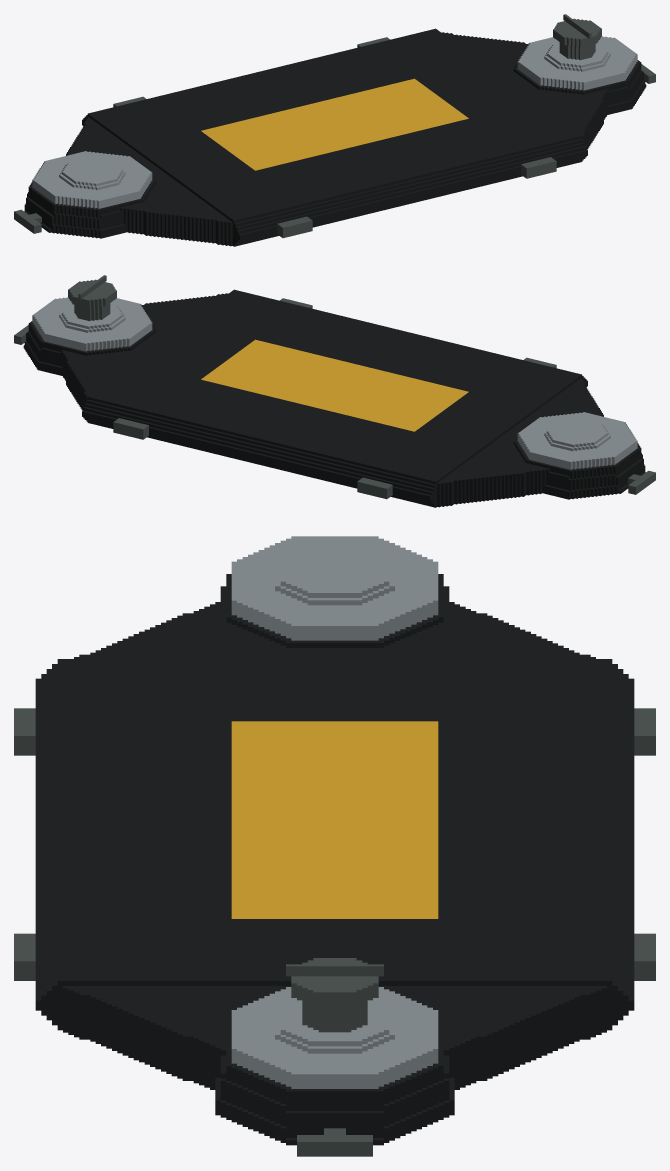
Rendered from collapsible_drum_fuel.glb.
3 renders of one model, top to bottom at view 1: azimuth 30°, elevation 25°; view 2: azimuth 150°, elevation 25°; view 3: azimuth 270°, elevation 25°, orthographic. The views are drawn at different scales.
Parts seen in each view (by area): view 1: collapsible_drum_fuel:compound; view 2: collapsible_drum_fuel:compound; view 3: collapsible_drum_fuel:compound.
Boxes of the visible parts, left/top/right/bottom form: collapsible_drum_fuel:compound: left=14, top=14, right=655, bottom=246; collapsible_drum_fuel:compound: left=14, top=275, right=655, bottom=507; collapsible_drum_fuel:compound: left=14, top=536, right=655, bottom=1156.
Size of the model in its own units: 2.5 by 0.26 by 1.18.
